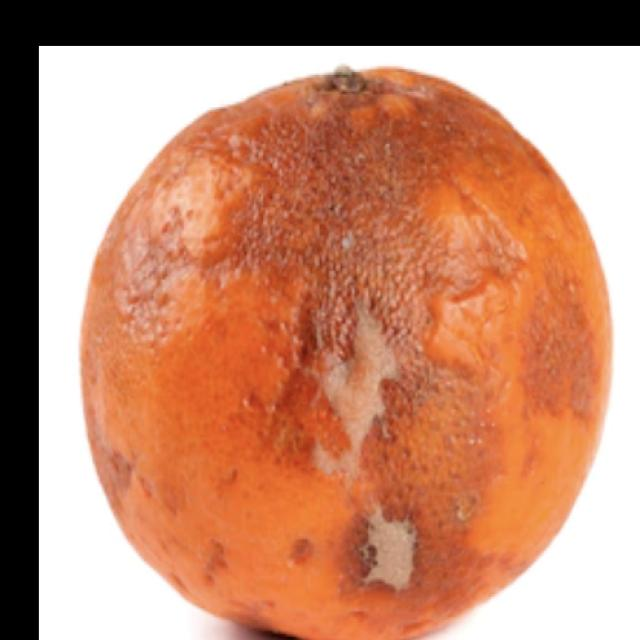sedikit_busuk: (77, 69, 614, 638)
